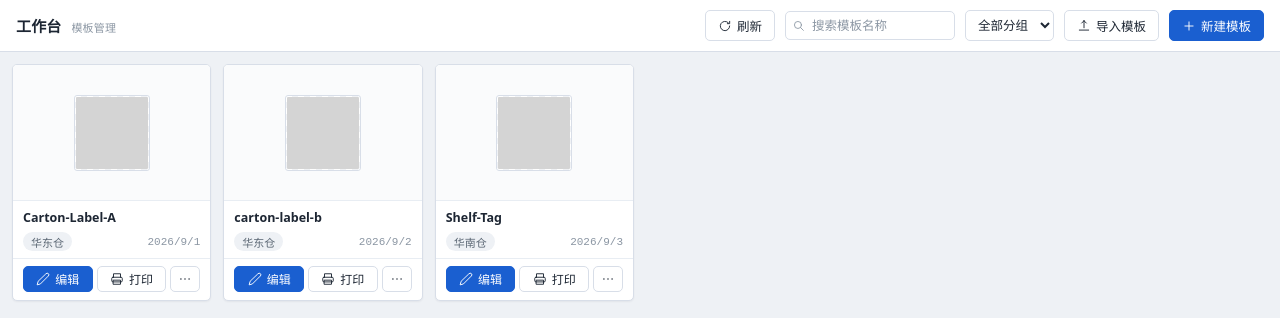
Scenario: 工作台模板名搜索（迭代 45） › 搜索词前后空白不影响匹配
The width and height of the screenshot is (1280, 318).
Expected: the text "Shelf-Tag" is shown, x1=446 y1=209 x2=502 y2=226
In the field with placeholder "搜索模板名称": (870, 26) x1=785 y1=11 x2=955 y2=40, type "  shelf  "
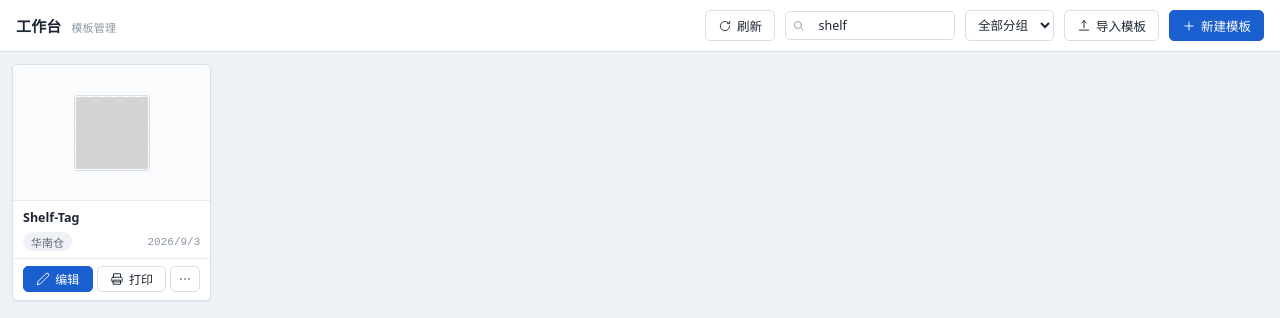
Expected: the text "Shelf-Tag" is shown, x1=23 y1=209 x2=79 y2=226
Expected: the text "Carton-Label-A" is gone
